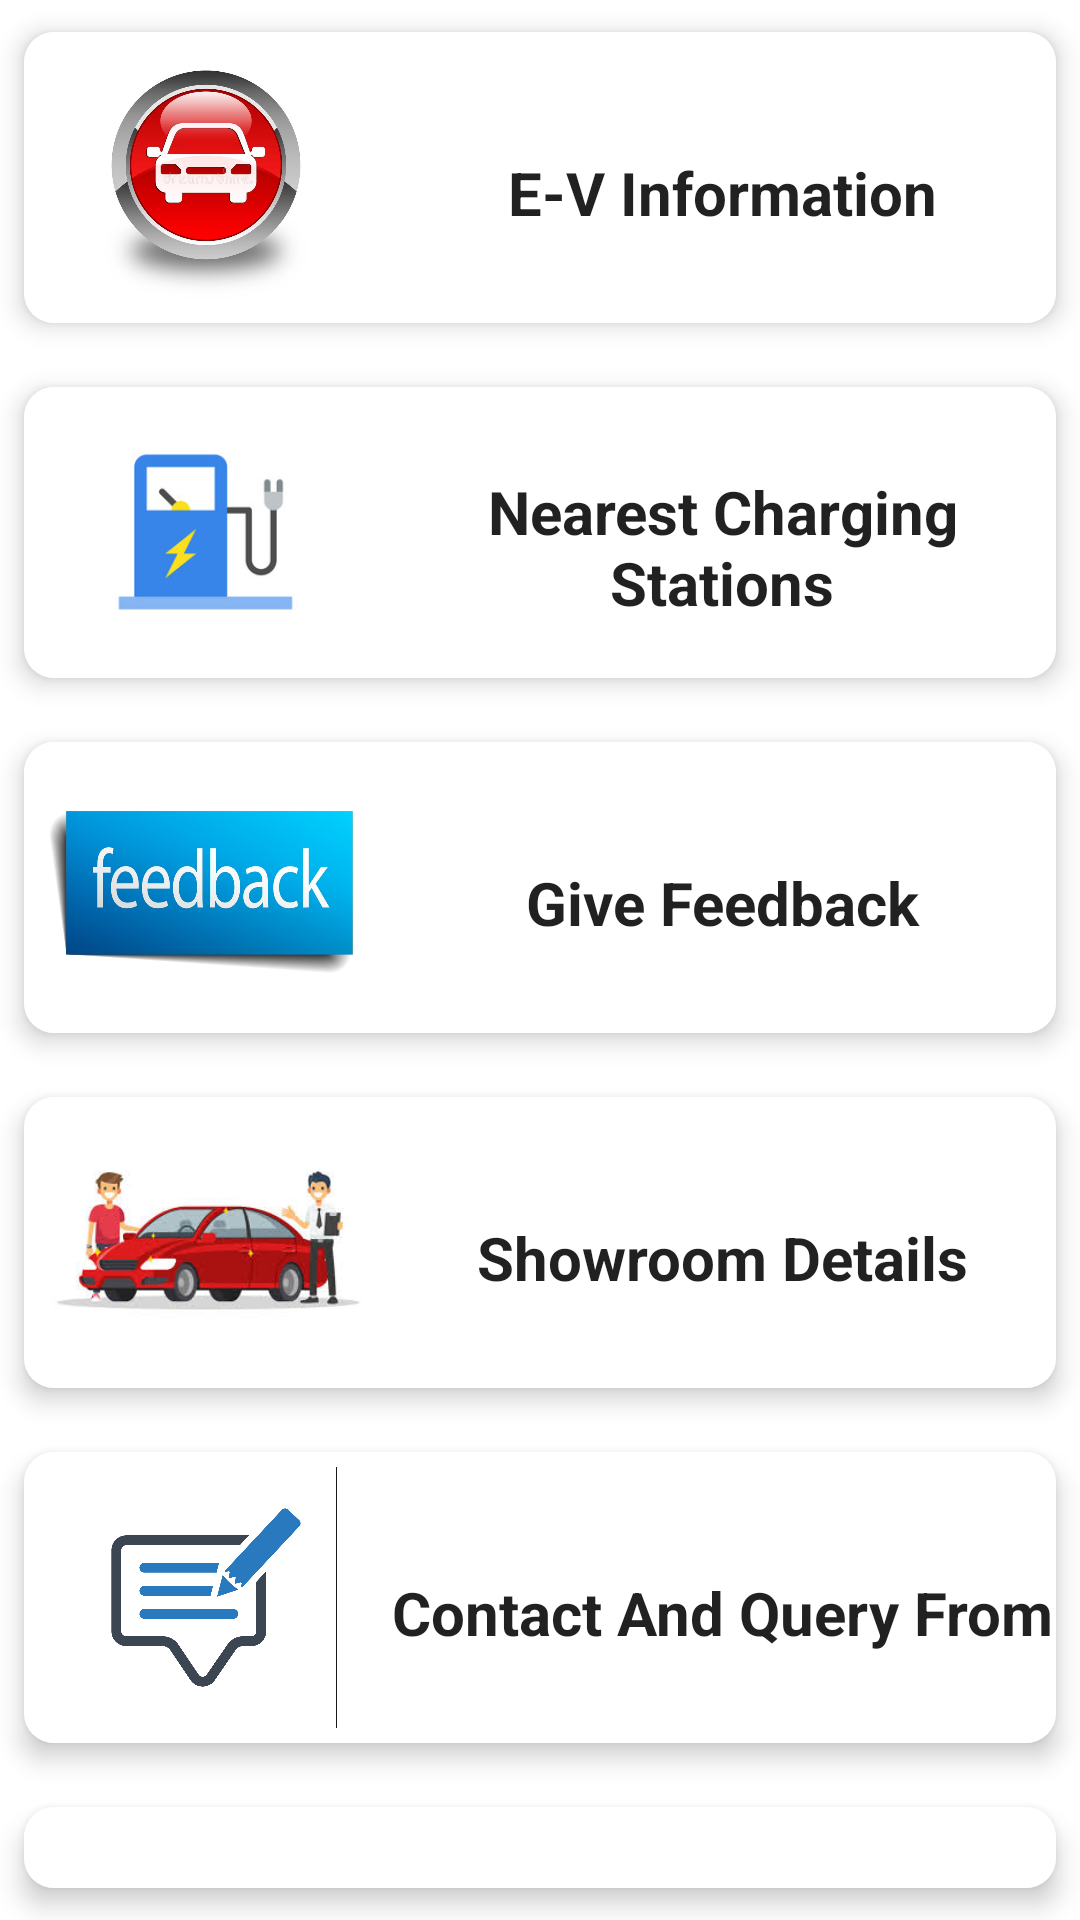

Icons on this 1080*1920 Android screen, each with its box as (x1, y1, x2, y2):
car: (112, 70, 300, 280)
cshowroom: (58, 1171, 358, 1309)
